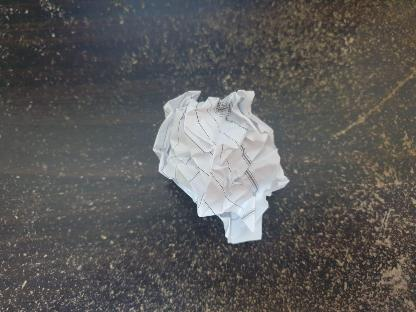Paper: (163, 86, 283, 229)
